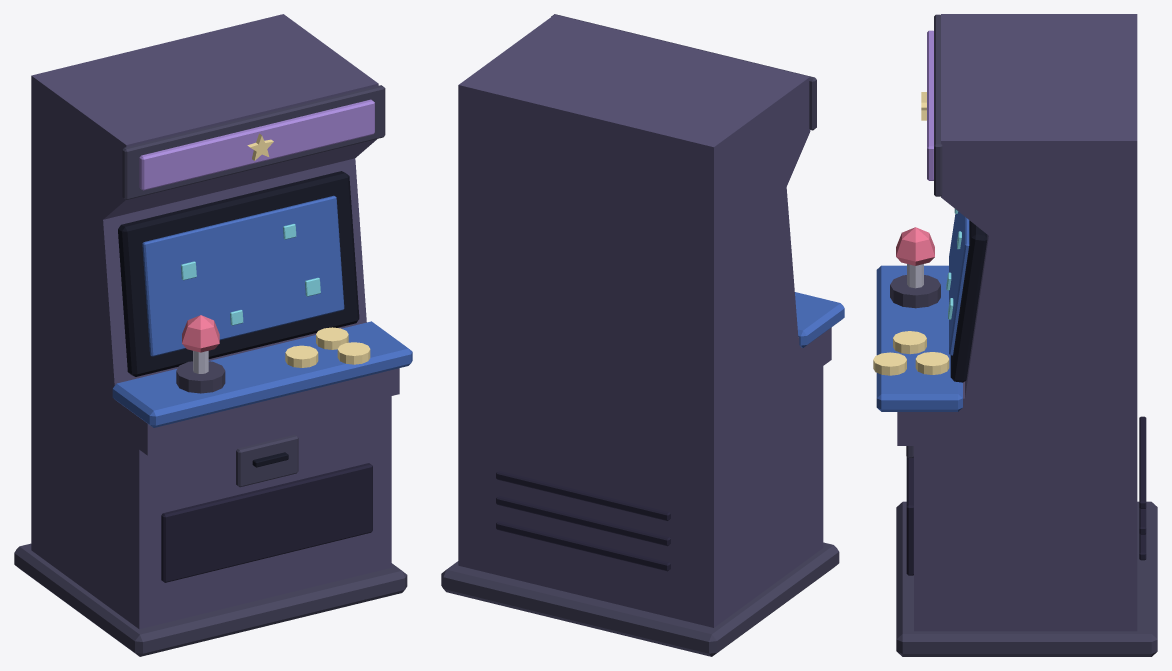
The model's file is 01_Comet_Arcade_Cabinet.glb.
3 views of the same model, side by side, from view 1: azimuth 30°, elevation 25°; view 2: azimuth 150°, elevation 25°; view 3: azimuth 270°, elevation 25° (orthographic). The views are drawn at different scales.
Parts seen in each view (by area): view 1: 01_Comet_Arcade_Cabinet__Body; view 2: 01_Comet_Arcade_Cabinet__Body; view 3: 01_Comet_Arcade_Cabinet__Body.
Boxes of the visible parts, left/top/right/bottom form: 01_Comet_Arcade_Cabinet__Body: left=14, top=14, right=412, bottom=656; 01_Comet_Arcade_Cabinet__Body: left=441, top=14, right=844, bottom=656; 01_Comet_Arcade_Cabinet__Body: left=873, top=14, right=1157, bottom=656.
Bounding box in the file's own units: 2.3 × 4.01 × 2.02.
Materials: 1 (1 with a texture image).
